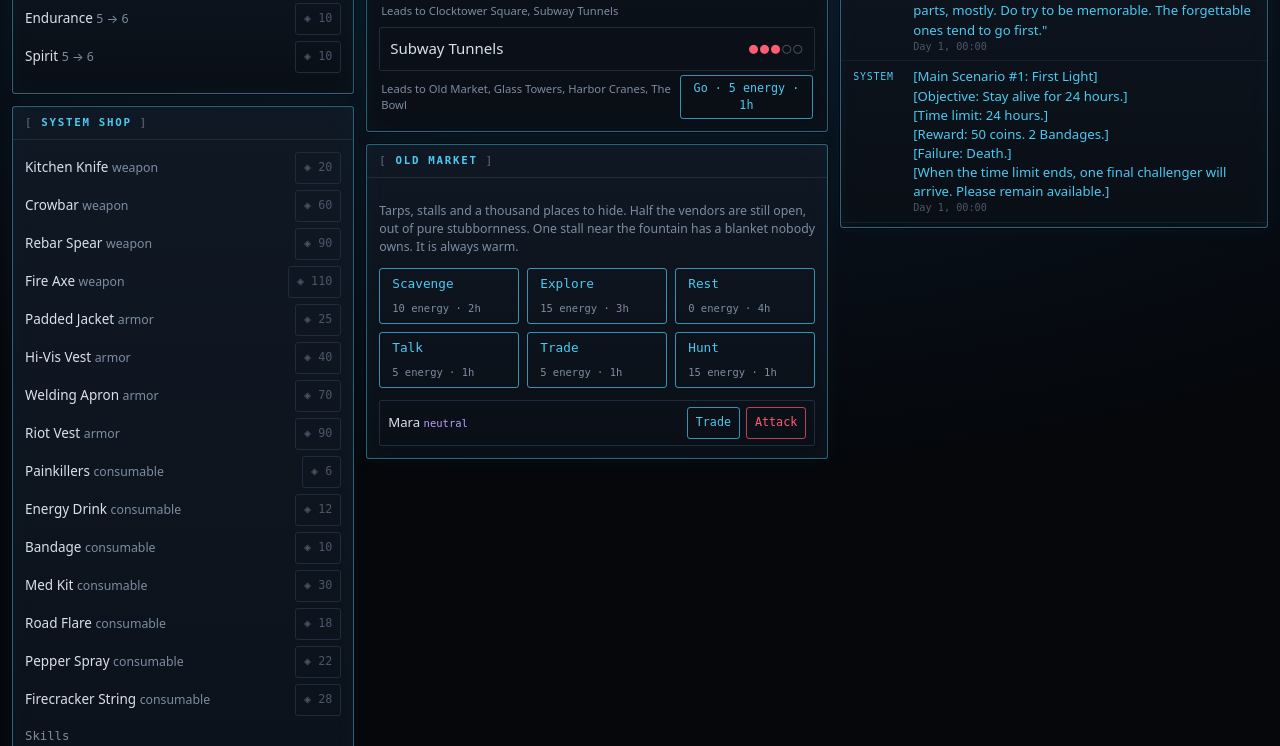
Test: the trade panel shows what each deal really pays and what it costs
The image size is (1280, 746).
(page scrolled)
Click the button with aria-label "trade with mara" at (713, 423), box [687,407,740,439]
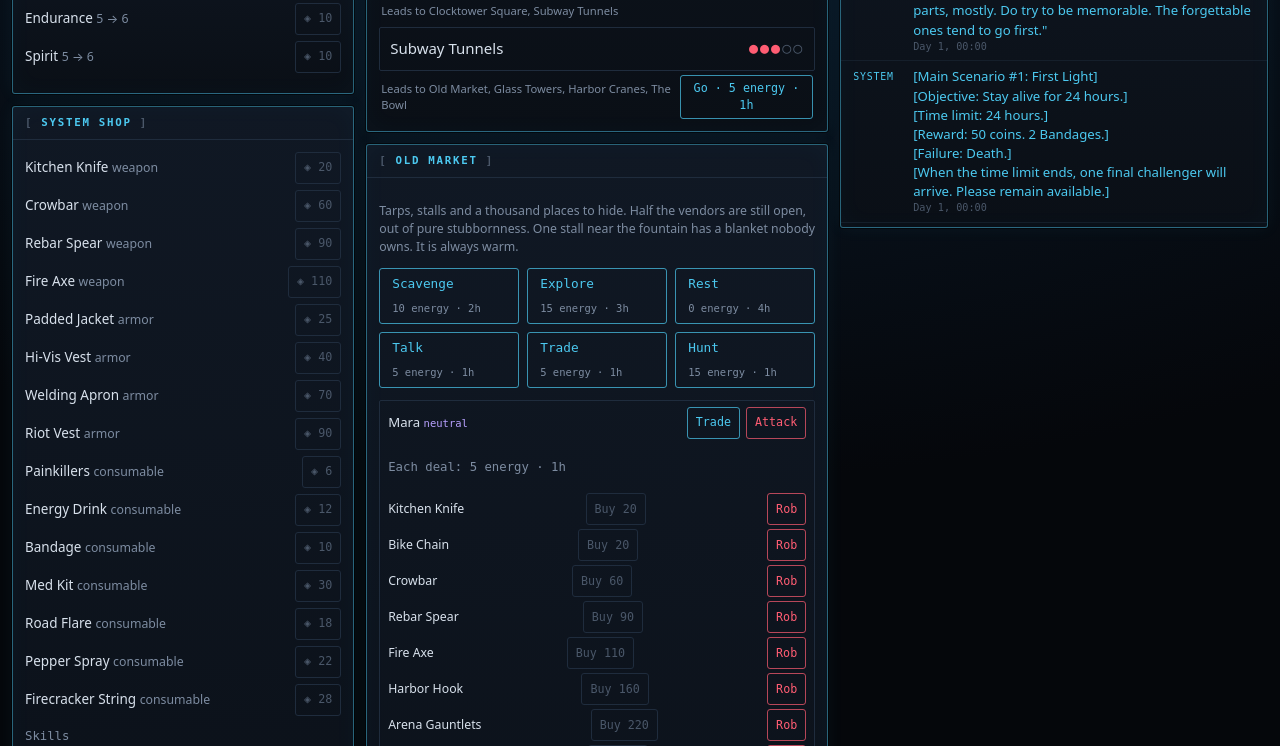
expect the text "Each deal: 5 energy · 1h" is shown: met, box [388,460,566,474]
